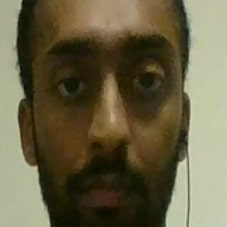awake: (44, 28, 177, 215)
